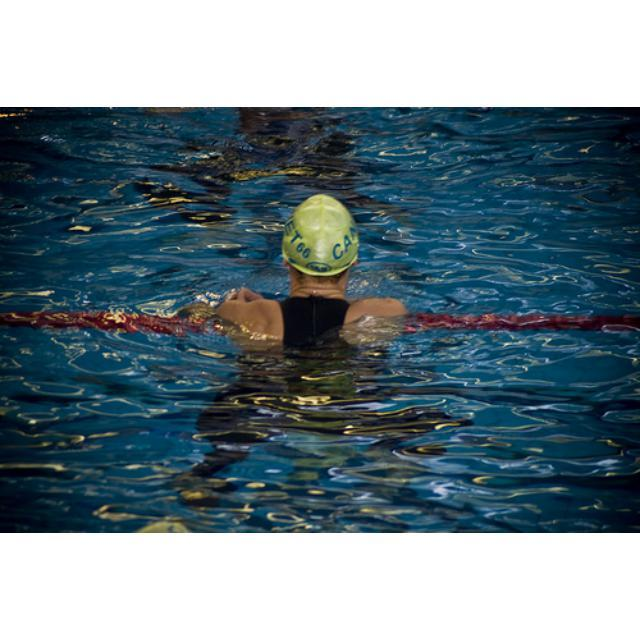human: (211, 194, 414, 397)
